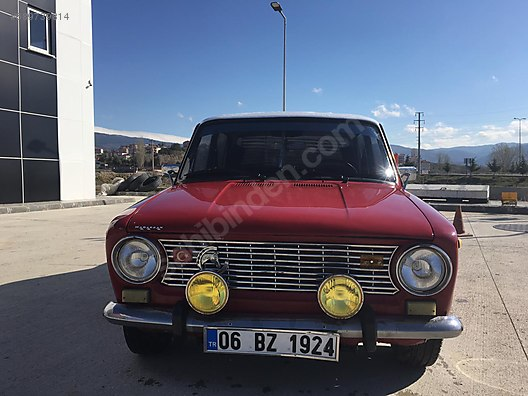murat: (98, 109, 464, 376)
